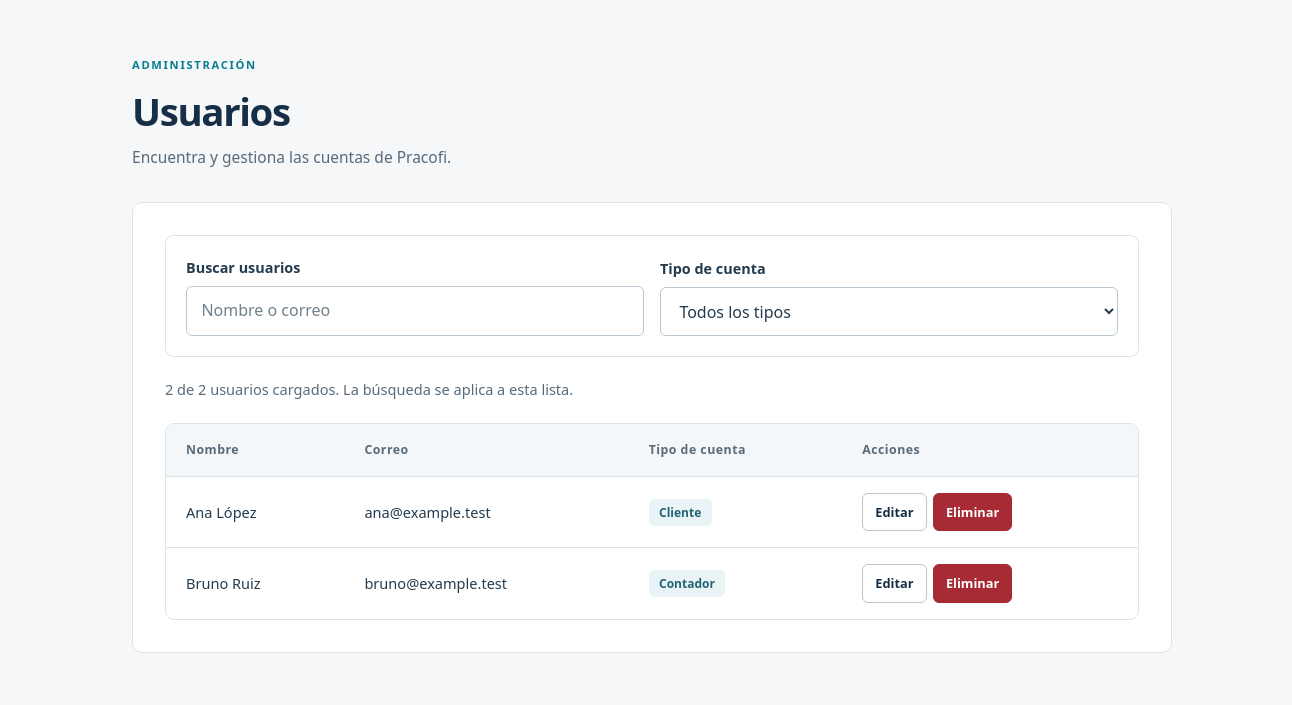
user administration › removes two users in succession only after confirmation
The width and height of the screenshot is (1292, 705).
What coordinates should you click on to do the following:
click the button with aria-label "Eliminar a Ana López"
I would click on:
 (973, 512)
Its box is [933,493,1012,532].
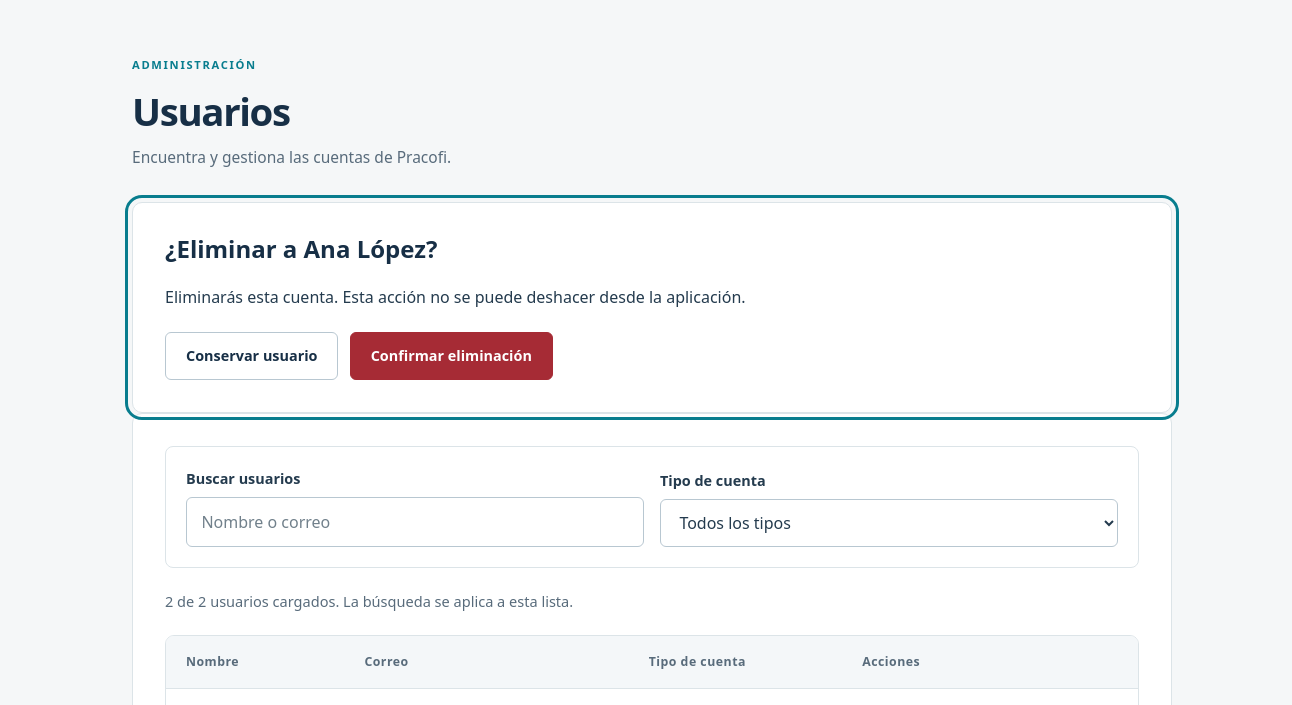
What coordinates should you click on to do the following:
click the button "Confirmar eliminación"
I would click on:
 (451, 356)
Its box is [350,332,553,380].
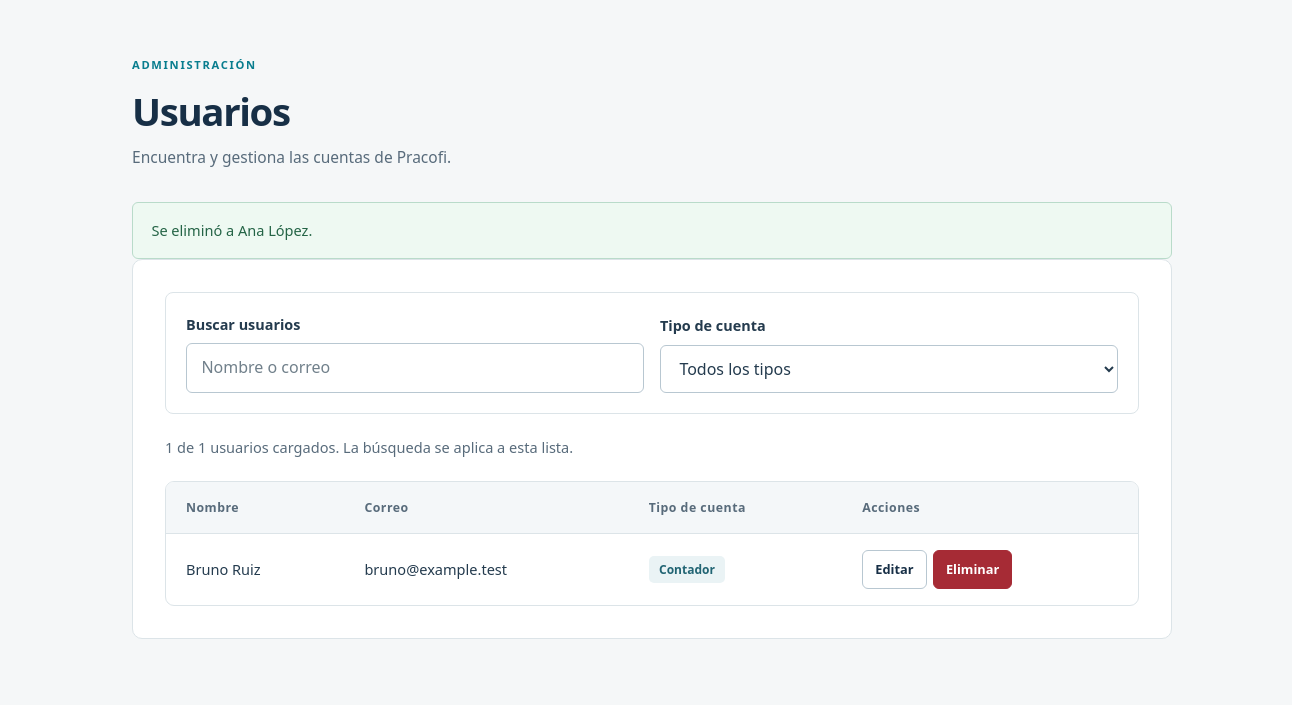
Expected: the heading "Eliminar a Ana López" is gone
What coordinates should you click on to do the following:
click the button with aria-label "Eliminar a Bruno Ruiz"
I would click on:
 (973, 570)
Its box is [933,550,1012,589].
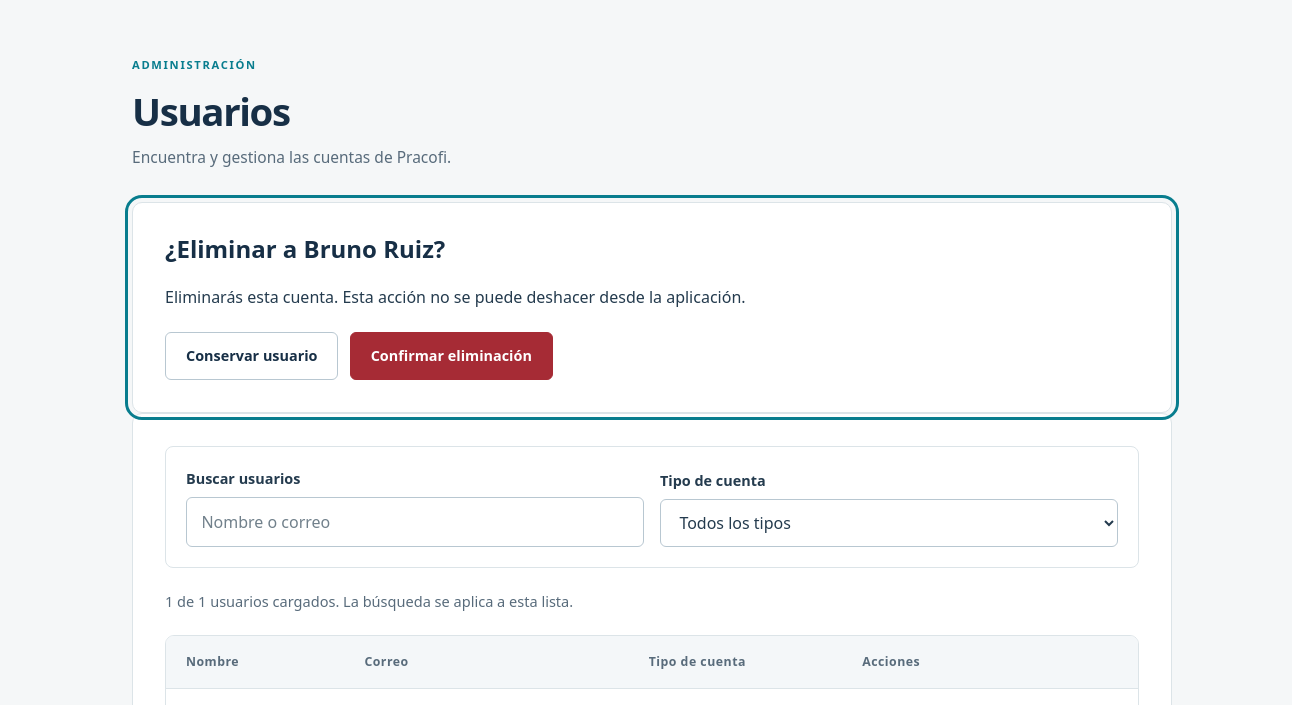
What coordinates should you click on to do the following:
click the button "Confirmar eliminación"
I would click on:
 (451, 356)
Its box is [350,332,553,380].
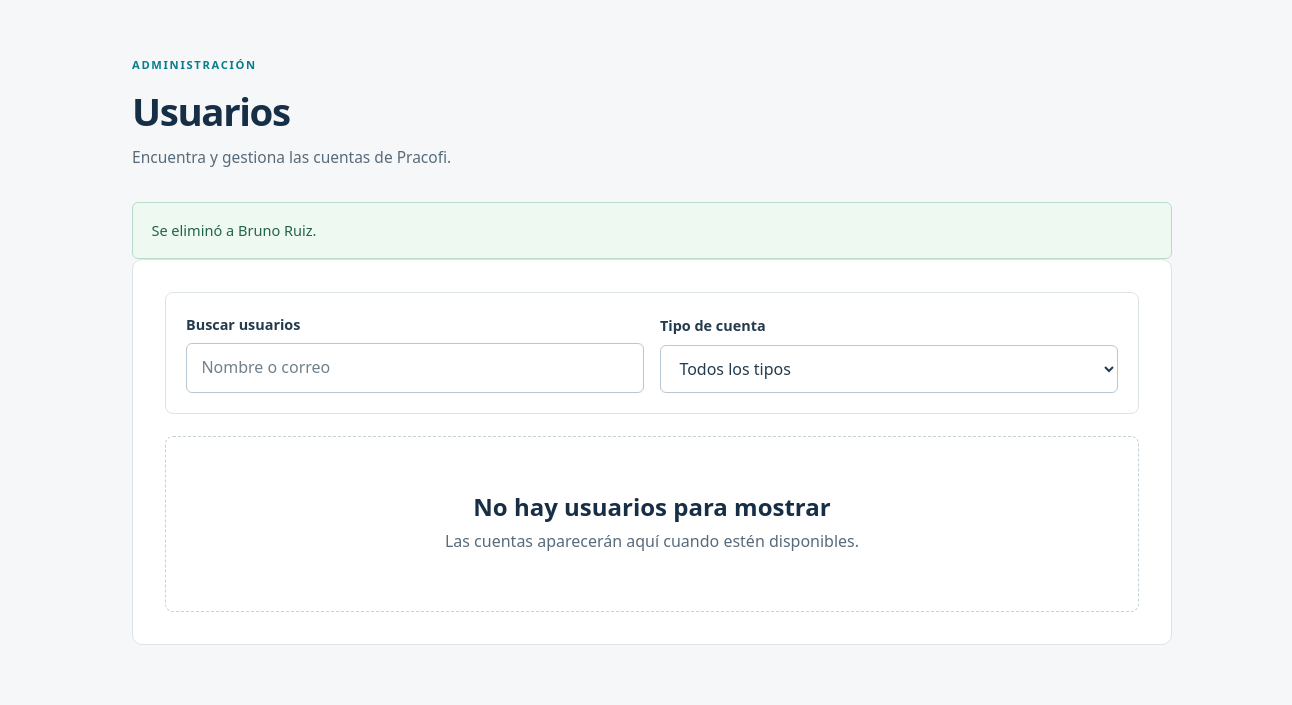
Expected: the heading "No hay usuarios para mostrar" is shown, [473,490,831,523]
